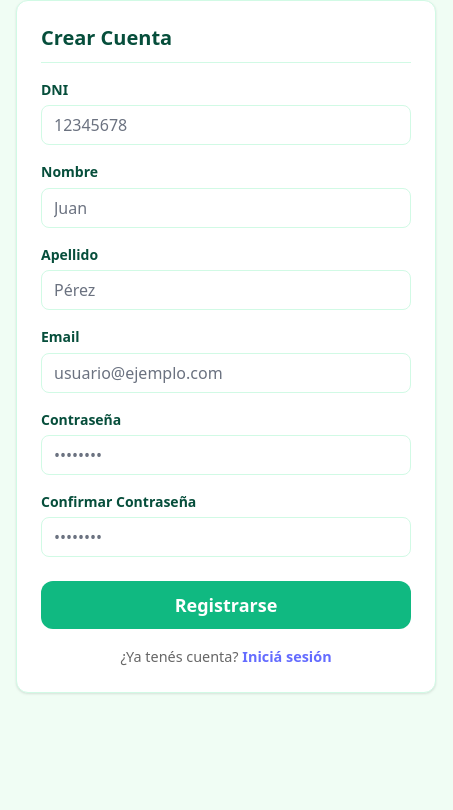
Test: Register › valida que las contraseñas coincidan
The width and height of the screenshot is (453, 810).
Step 1. Type "pass1234" into the password field labelled "Contraseña" → x=226, y=455, box [41,435,411,475]
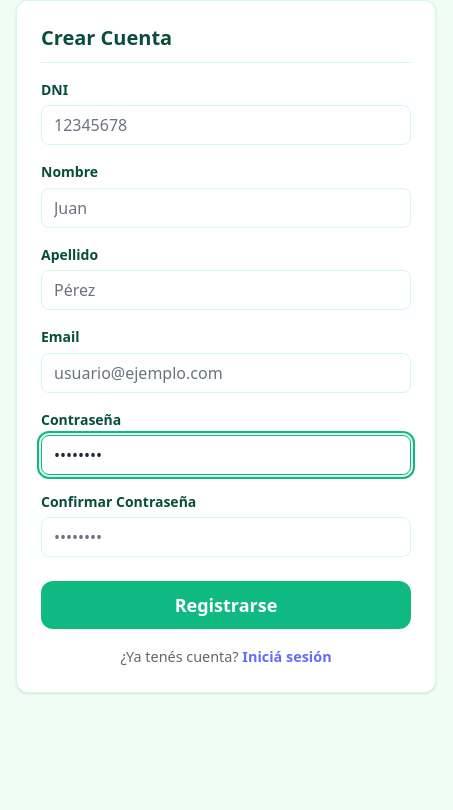
Step 2. Type "distinta" into the password field labelled "Confirmar Contraseña" → x=226, y=537, box [41,517,411,557]
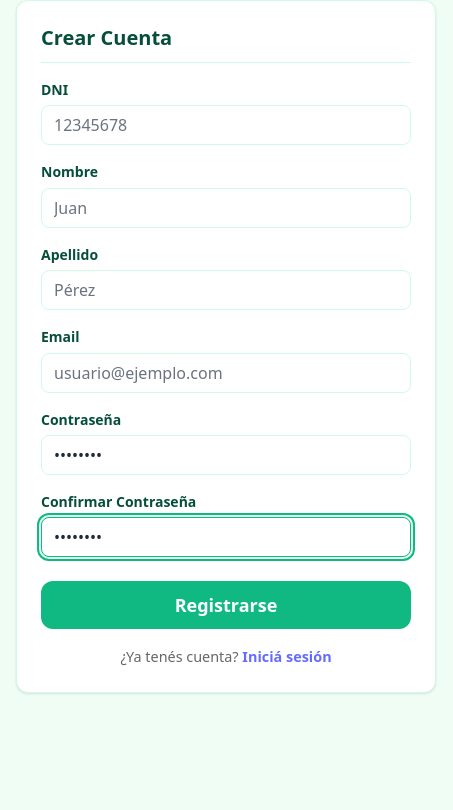
Step 3. Click the button "Registrarse" → x=226, y=605, box [41,581,411,629]
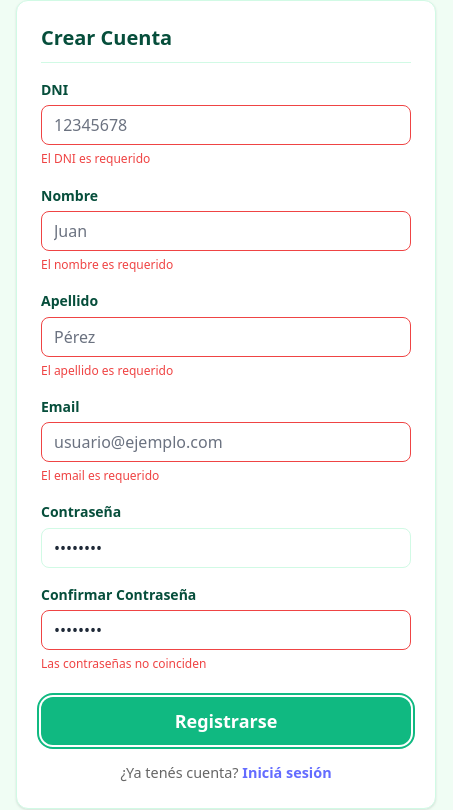
Expected: the text "Las contraseñas no coinciden" is shown, [41,655,206,672]
